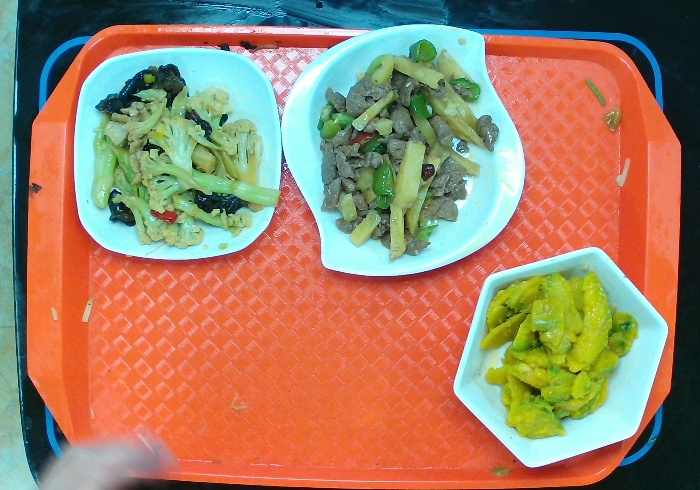RJxy-Liu_Jiao_Wan: (450, 246, 671, 468)
RJxy-Shuang_Jiao_Pan: (276, 22, 530, 281)
RJxy-Si_Fang_Wan: (70, 45, 281, 263)
